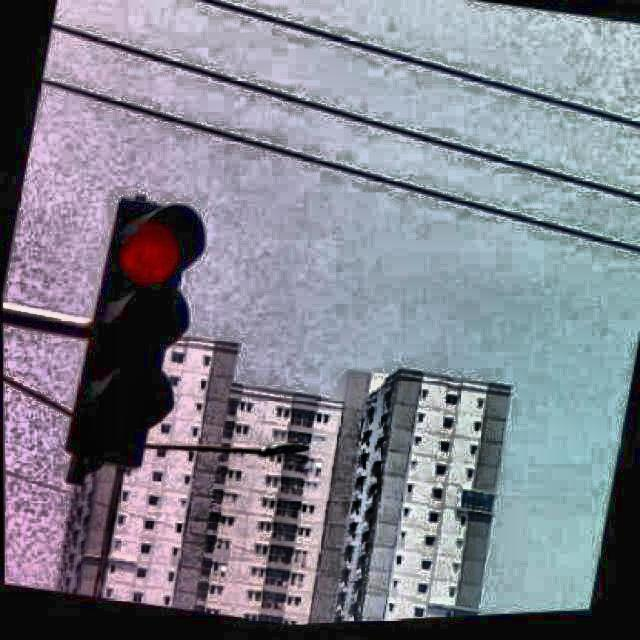red: (89, 187, 211, 482)
